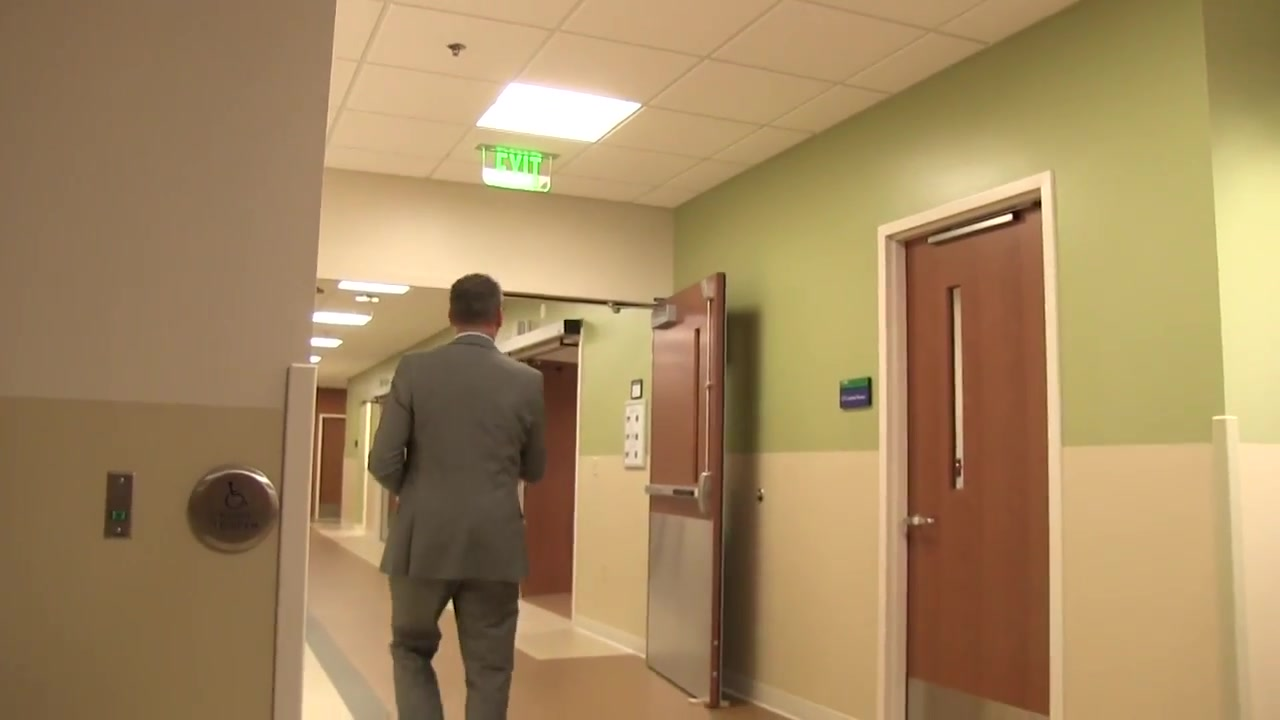door_handle: (910, 515, 936, 530)
press_to_open: (187, 466, 279, 551)
push_latch: (645, 467, 717, 516)
staff: (370, 270, 548, 720)
